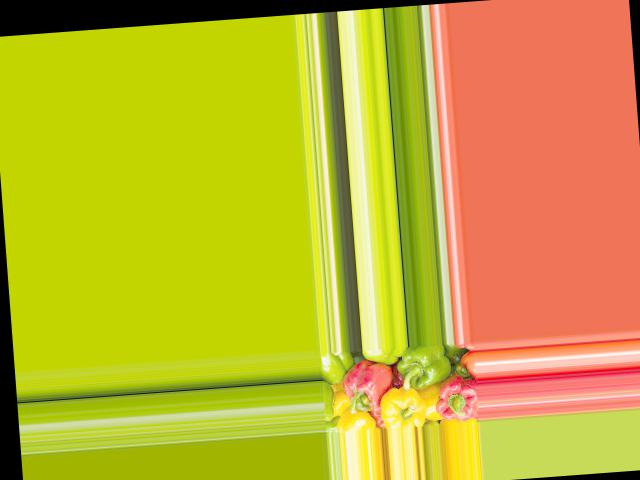bell_pepper: (428, 373, 478, 423)
